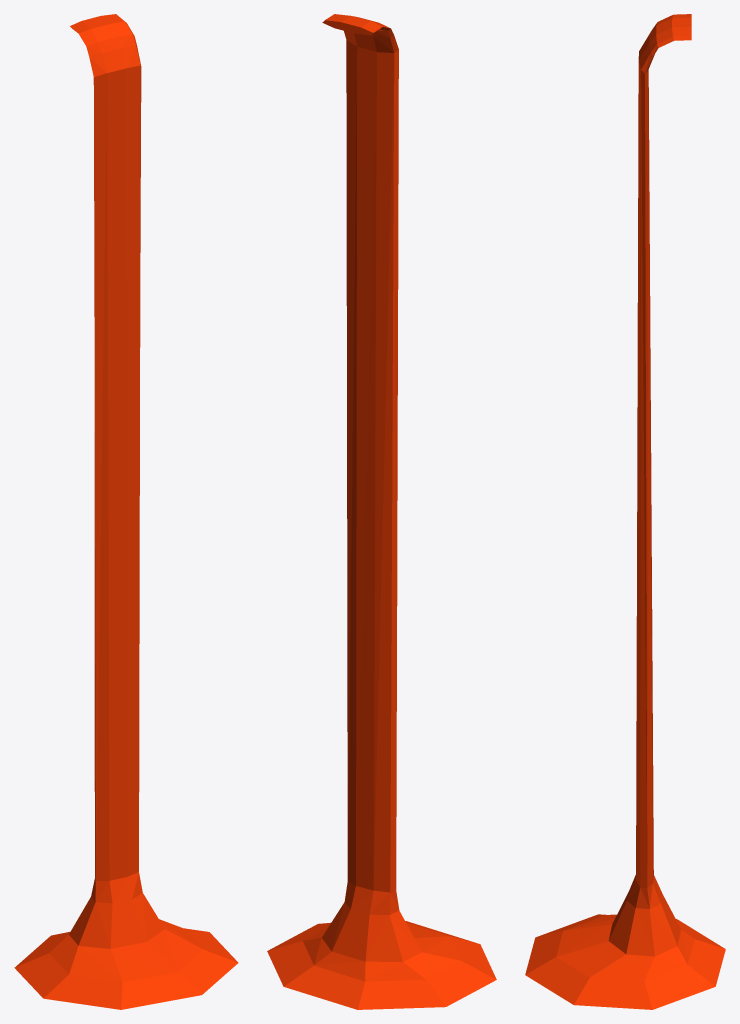
File: Prop_Lava_Pour_01.FBX
3 renders of one model, left to right at view 1: azimuth 30°, elevation 25°; view 2: azimuth 150°, elevation 25°; view 3: azimuth 270°, elevation 25°, orthographic. The views are drawn at different scales.
Visible parts, largest first — view 1: Prop_Lava_Pour_01; view 2: Prop_Lava_Pour_01; view 3: Prop_Lava_Pour_01.
Boxes of the visible parts, x1,y1,x2,y2 form: Prop_Lava_Pour_01: (14,14,238,1009); Prop_Lava_Pour_01: (267,14,496,1009); Prop_Lava_Pour_01: (525,14,725,1009).
Bounding box in the file's own units: 912 × 4172 × 808.
